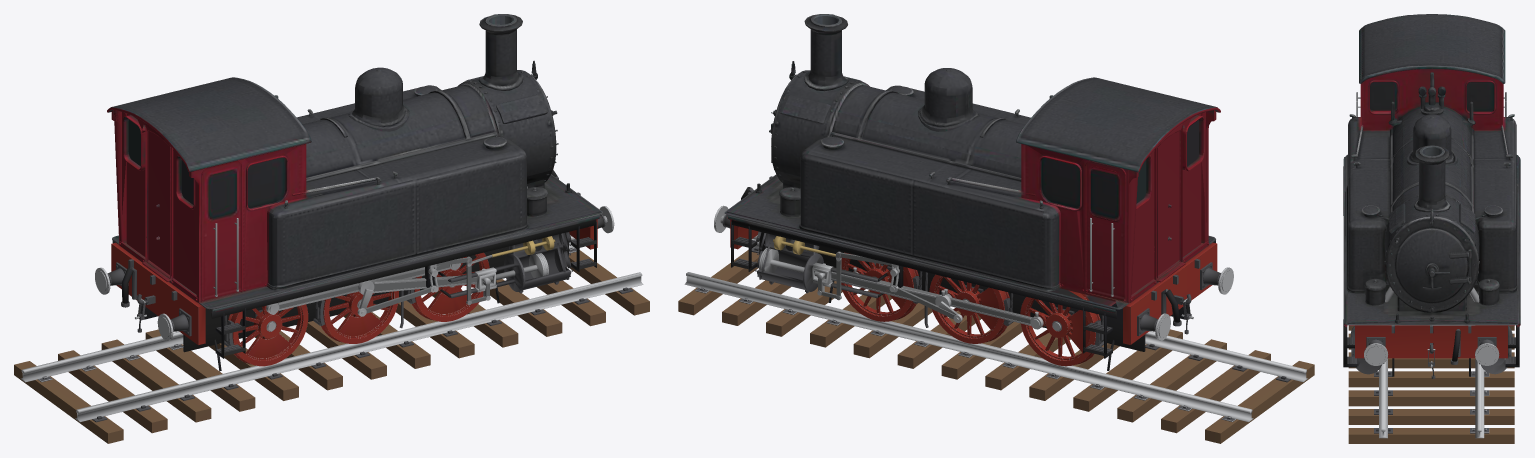
3 renders of one model, left to right at view 1: azimuth 30°, elevation 25°; view 2: azimuth 150°, elevation 25°; view 3: azimuth 270°, elevation 25°, orthographic. The views are drawn at different scales.
Visible parts, largest first — view 1: cab, tank_r, track~wood, boiler_cladding, cab_roof, track, smokebox, footplate, frames, frames~red, wheelset_3~red, frames~iron (+8 smaller); view 2: tank_l, cab, track~wood, boiler_cladding, cab_roof, track, smokebox, footplate, frames, frames~red, wheelset_3~red, frames~iron (+8 smaller); view 3: track~wood, boiler_cladding, smokebox, cab_roof, cab, footplate, tank_r, tank_l, smokebox_door, frames~red, track, frames (+6 smaller).
Part boxes in pixels (bbox=[...]): cab: bbox=[107, 107, 306, 302]; tank_r: bbox=[277, 135, 527, 287]; track~wood: bbox=[14, 250, 649, 443]; boiler_cladding: bbox=[262, 67, 506, 195]; cab_roof: bbox=[108, 77, 311, 178]; track: bbox=[20, 236, 643, 422]; smokebox: bbox=[463, 14, 569, 190]; footplate: bbox=[112, 174, 602, 312]; frames: bbox=[101, 170, 612, 371]; frames~red: bbox=[111, 220, 597, 344]; wheelset_3~red: bbox=[228, 304, 308, 366]; frames~iron: bbox=[107, 176, 605, 356]; tank_l: bbox=[800, 135, 1050, 287]; cab: bbox=[1021, 107, 1220, 302]; track~wood: bbox=[678, 250, 1314, 443]; boiler_cladding: bbox=[820, 68, 1067, 195]; cab_roof: bbox=[1016, 77, 1219, 178]; track: bbox=[684, 236, 1307, 422]; smokebox: bbox=[757, 14, 863, 191]; footplate: bbox=[724, 174, 1215, 313]; frames: bbox=[715, 187, 1229, 370]; frames~red: bbox=[730, 221, 1217, 344]; wheelset_3~red: bbox=[1020, 290, 1116, 366]; frames~iron: bbox=[722, 176, 1221, 355]; track~wood: bbox=[1348, 325, 1514, 443]; boiler_cladding: bbox=[1351, 66, 1513, 284]; smokebox: bbox=[1364, 145, 1499, 320]; cab_roof: bbox=[1359, 14, 1505, 86]; cab: bbox=[1349, 66, 1515, 130]; footplate: bbox=[1343, 154, 1520, 327]; tank_r: bbox=[1347, 118, 1388, 291]; tank_l: bbox=[1475, 118, 1516, 291]; smokebox_door: bbox=[1396, 231, 1467, 302]; frames~red: bbox=[1355, 325, 1507, 358]; track: bbox=[1379, 358, 1489, 438]; frames: bbox=[1343, 166, 1519, 376].
Size of the model in its own units: 9 by 4.3 by 2.77.
9 materials, 1 textured.
